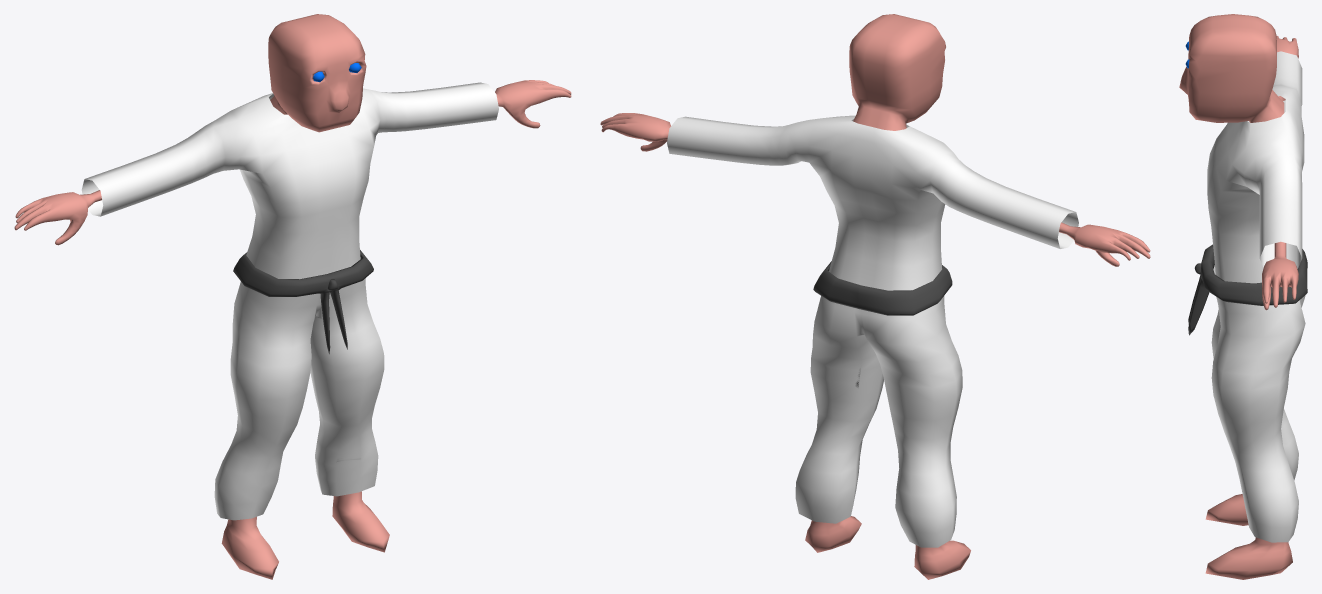
Rendered from man without skeletion.fbx.
3 renders of one model, left to right at view 1: azimuth 30°, elevation 25°; view 2: azimuth 150°, elevation 25°; view 3: azimuth 270°, elevation 25°, orthographic.
Parts seen in each view (by area): view 1: polySurface6; view 2: polySurface6; view 3: polySurface6.
Boxes of the visible parts, x1,y1,x2,y2 form: polySurface6: (14,14,571,579); polySurface6: (600,14,1150,579); polySurface6: (1179,14,1307,579).
Size of the model in its own units: 17.14 by 15.75 by 3.48.
Materials: 1 (1 with a texture image).
